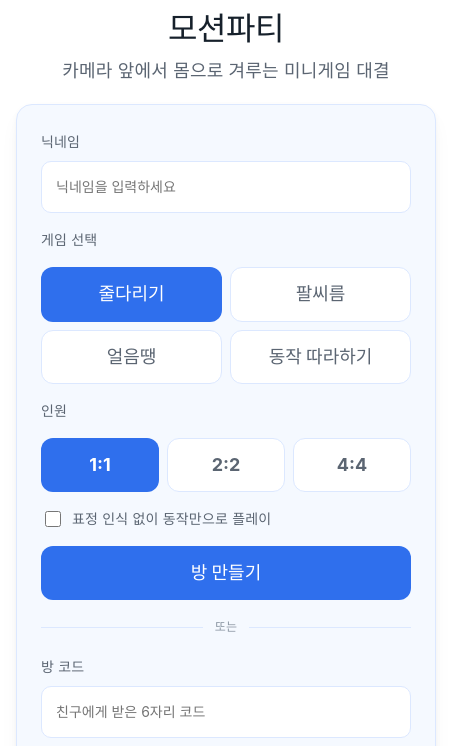
Test: Lobby: joining a room › rejects a short code submitted with Enter
Type "abc" into the field with placeholder "친구에게 받은 6자리 코드" at (226, 712), box x1=41 y1=686 x2=411 y2=738
(page scrolled)
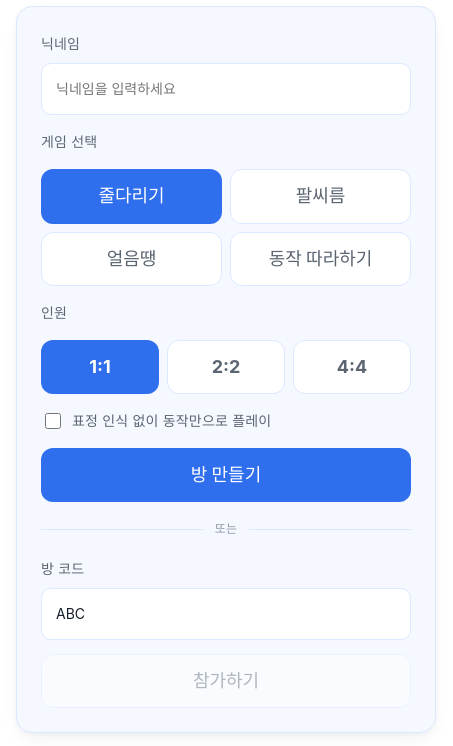
Submit the form with placeholder "친구에게 받은 6자리 코드", box x1=41 y1=556 x2=411 y2=708
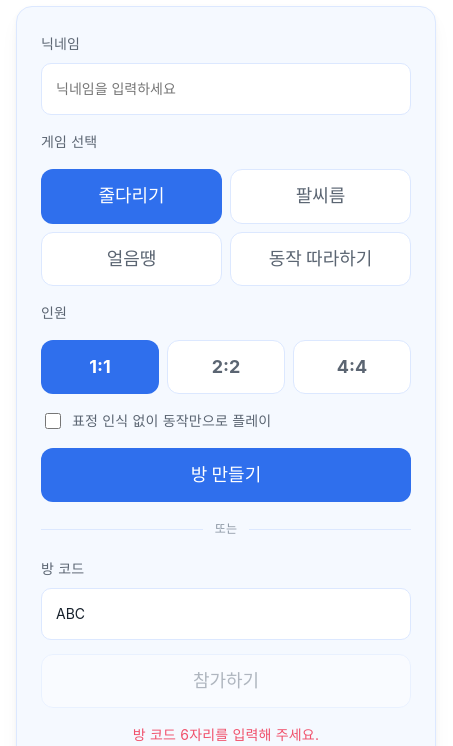
Now the message reads "방 코드 6자리를 입력해 주세요.", box x1=133 y1=726 x2=319 y2=743
